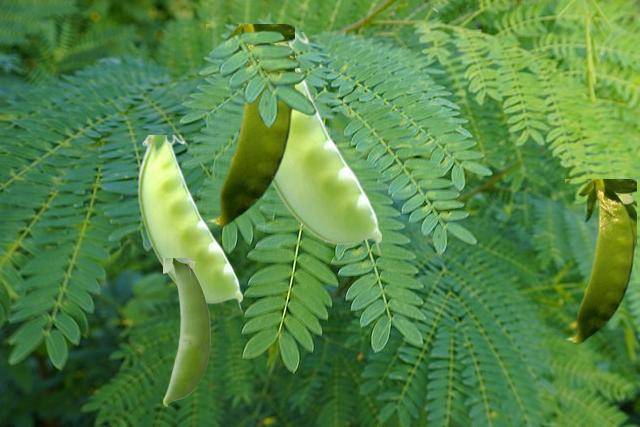pea: (270, 32, 380, 256), (137, 135, 241, 312), (206, 24, 293, 226), (565, 179, 635, 343), (163, 258, 209, 405)
